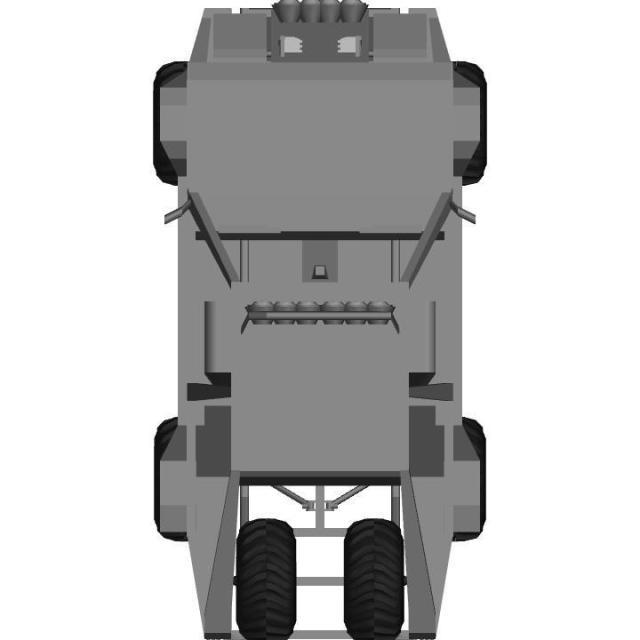MIL_MBT: (150, 11, 515, 625)
